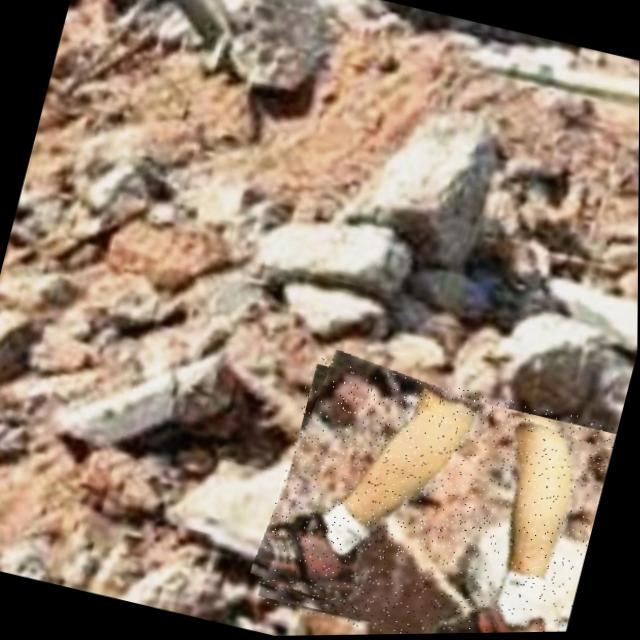Person in Rubble: (250, 351, 619, 637)
